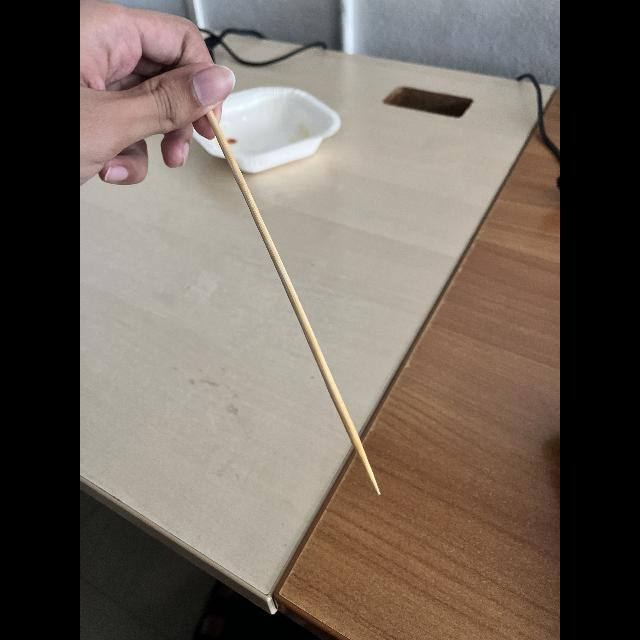cardboard_bowl: (182, 67, 338, 181)
stick: (165, 76, 393, 507)
